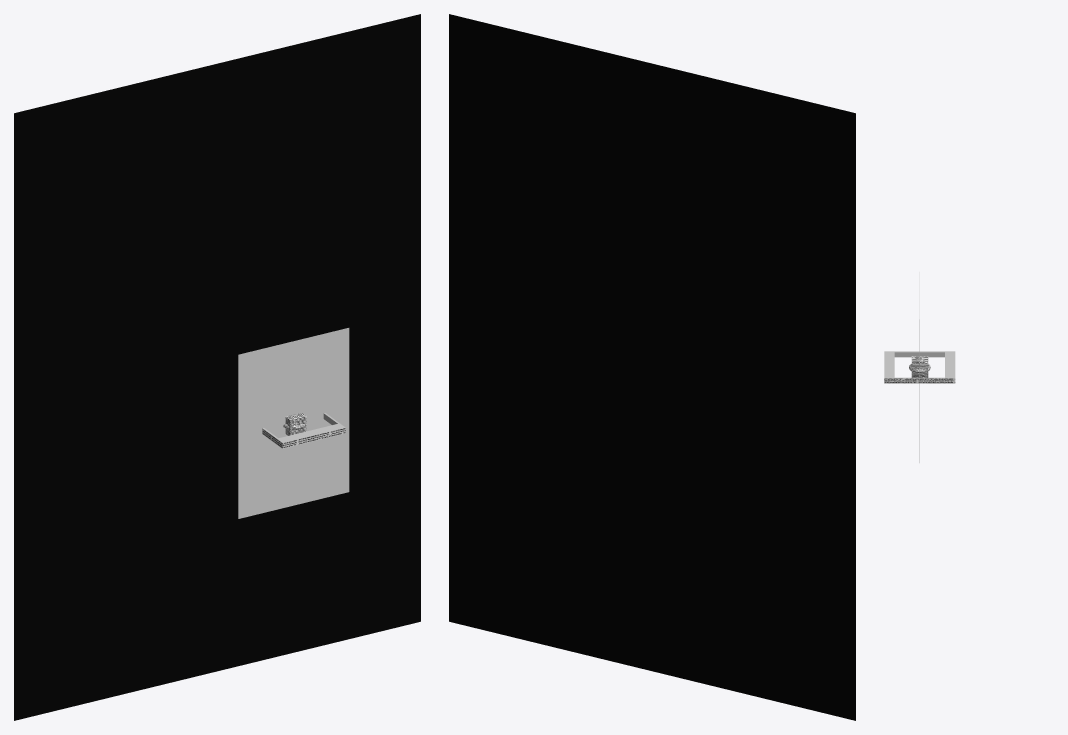
File: Poster01-V03-JustCube.fbx
The picture shows the model from 3 angles, left to right: view 1: azimuth 30°, elevation 25°; view 2: azimuth 150°, elevation 25°; view 3: azimuth 270°, elevation 25°; orthographic projection. The views are drawn at different scales.
Parts seen in each view (by area): view 1: Background, Size of canvas, MainCubes; view 2: Background; view 3: MainCubes, Cube.
Boxes of the visible parts, left/top/right/bottom form: Background: left=14, top=14, right=420, bottom=720; Size of canvas: left=238, top=328, right=349, bottom=518; MainCubes: left=262, top=413, right=345, bottom=448; Background: left=449, top=14, right=855, bottom=720; MainCubes: left=884, top=351, right=955, bottom=383; Cube: left=911, top=356, right=928, bottom=377.
Bounding box in the file's own units: 154 × 220 × 63.3.
